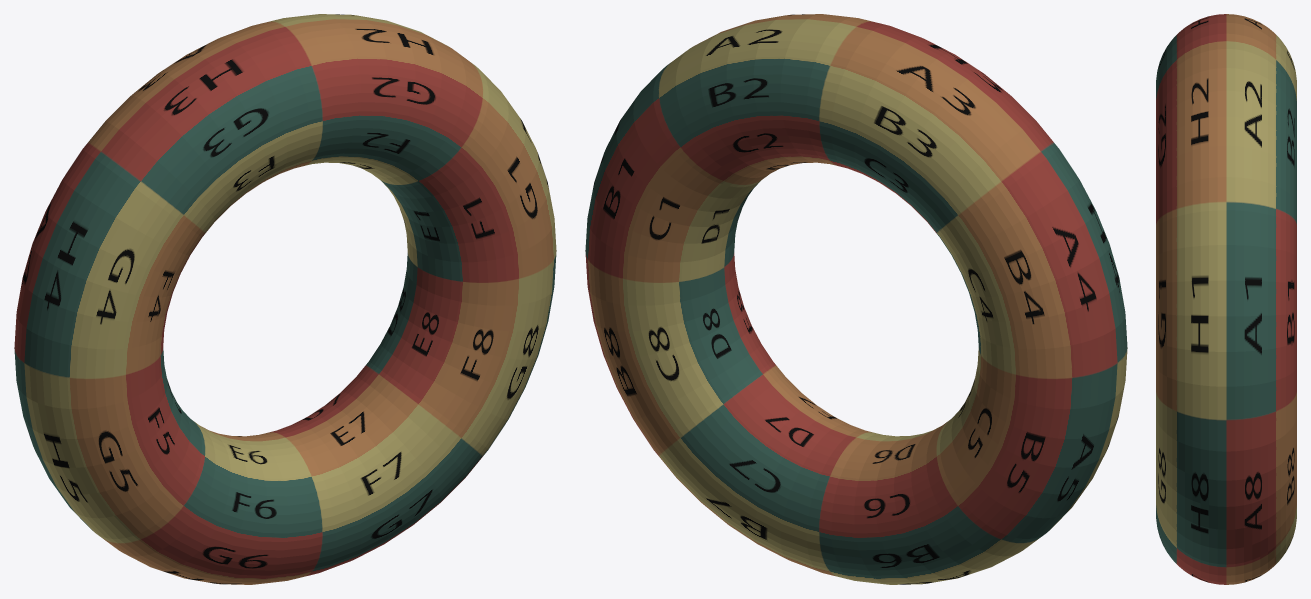
The model's file is texture_torus_R21_r22.glb.
The picture shows the model from 3 angles, left to right: view 1: azimuth 30°, elevation 25°; view 2: azimuth 150°, elevation 25°; view 3: azimuth 270°, elevation 25°; orthographic projection. The views are drawn at different scales.
Visible parts, largest first — view 1: world; view 2: world; view 3: world.
Boxes of the visible parts, x1,y1,x2,y2 form: world: [14, 14, 556, 584]; world: [585, 14, 1127, 584]; world: [1156, 14, 1296, 584].
Size of the model in its own units: 31.87 by 31.8 by 7.85.
1 material, 1 textured.
